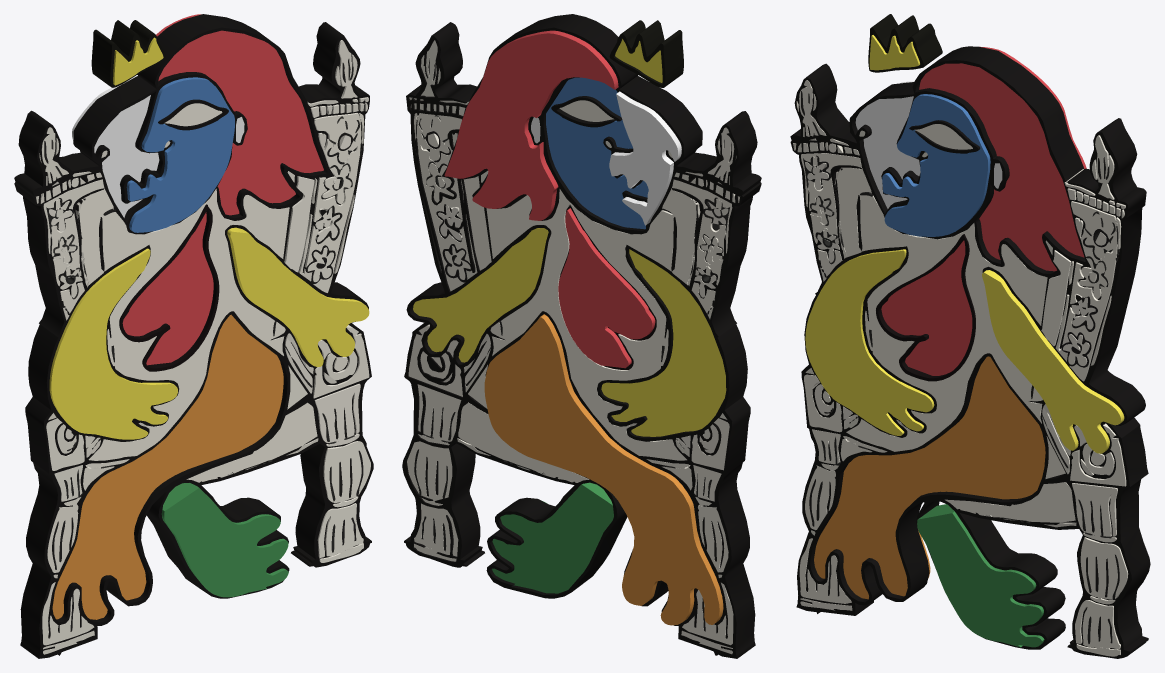
File: captain.glb
3 renders of one model, left to right at view 1: azimuth 30°, elevation 25°; view 2: azimuth 150°, elevation 25°; view 3: azimuth 330°, elevation 25°, orthographic.
Parts seen in each view (by area): view 1: Shape 23, Shape 24, Shape 25, Shape 15, Shape 28, Shape 19, Shape 1, Shape 141, Shape 176, Shape 179, Shape 17, Shape 2 (+18 smaller); view 2: Shape 23, Shape 24, Shape 25, Shape 15, Shape 28, Shape 176, Shape 1, Shape 19, Shape 141, Shape 17, Shape 179, Shape 0 (+18 smaller); view 3: Shape 23, Shape 24, Shape 25, Shape 15, Shape 28, Shape 19, Shape 1, Shape 141, Shape 176, Shape 179, Shape 17, Shape 2 (+18 smaller).
Part boxes in pixels (box(x1,y1,x2,y2)): Shape 23: box(14, 14, 373, 658); Shape 24: box(52, 314, 283, 619); Shape 25: box(78, 188, 289, 460); Shape 15: box(156, 14, 323, 215); Shape 28: box(49, 248, 177, 439); Shape 19: box(126, 77, 234, 232); Shape 1: box(161, 483, 288, 597); Shape 141: box(227, 227, 369, 367); Shape 176: box(122, 212, 213, 365); Shape 179: box(304, 113, 364, 271); Shape 17: box(72, 76, 159, 217); Shape 2: box(186, 402, 317, 482); Shape 23: box(402, 14, 761, 658); Shape 24: box(484, 314, 723, 625); Shape 25: box(486, 188, 697, 460); Shape 15: box(444, 30, 618, 220); Shape 28: box(601, 249, 726, 436); Shape 176: box(558, 208, 655, 368); Shape 1: box(492, 482, 613, 593); Shape 19: box(546, 77, 648, 229); Shape 141: box(413, 228, 548, 362); Shape 17: box(609, 91, 681, 225); Shape 179: box(414, 113, 470, 269); Shape 0: box(609, 20, 683, 87); Shape 23: box(790, 46, 1150, 658); Shape 24: box(814, 356, 1045, 599); Shape 25: box(837, 167, 1047, 451); Shape 15: box(919, 46, 1086, 271); Shape 28: box(805, 249, 934, 435); Shape 19: box(882, 94, 990, 236); Shape 1: box(917, 504, 1044, 647); Shape 141: box(982, 270, 1124, 453); Shape 176: box(881, 240, 972, 375); Shape 179: box(1062, 201, 1121, 362); Shape 17: box(855, 81, 920, 208); Shape 2: box(945, 482, 1075, 522).
Bounding box in the file's own units: 4.51 × 7.62 × 0.6076.
